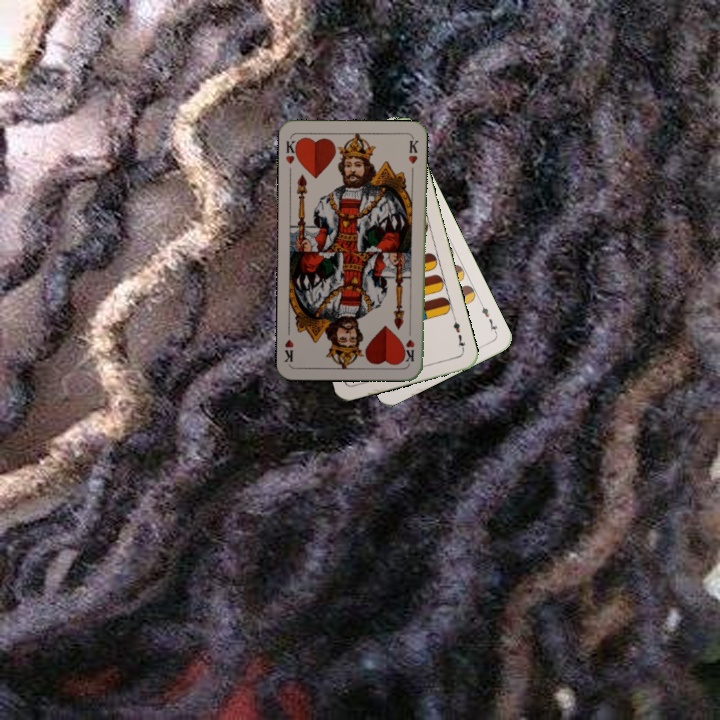E7: (476, 298, 500, 337), (449, 314, 468, 354)
HK: (400, 324, 417, 364), (281, 136, 301, 166)
